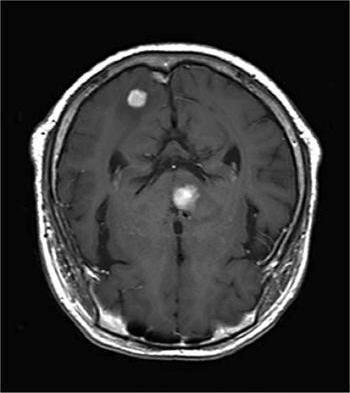Normal_Brain: (10, 12, 350, 393)
